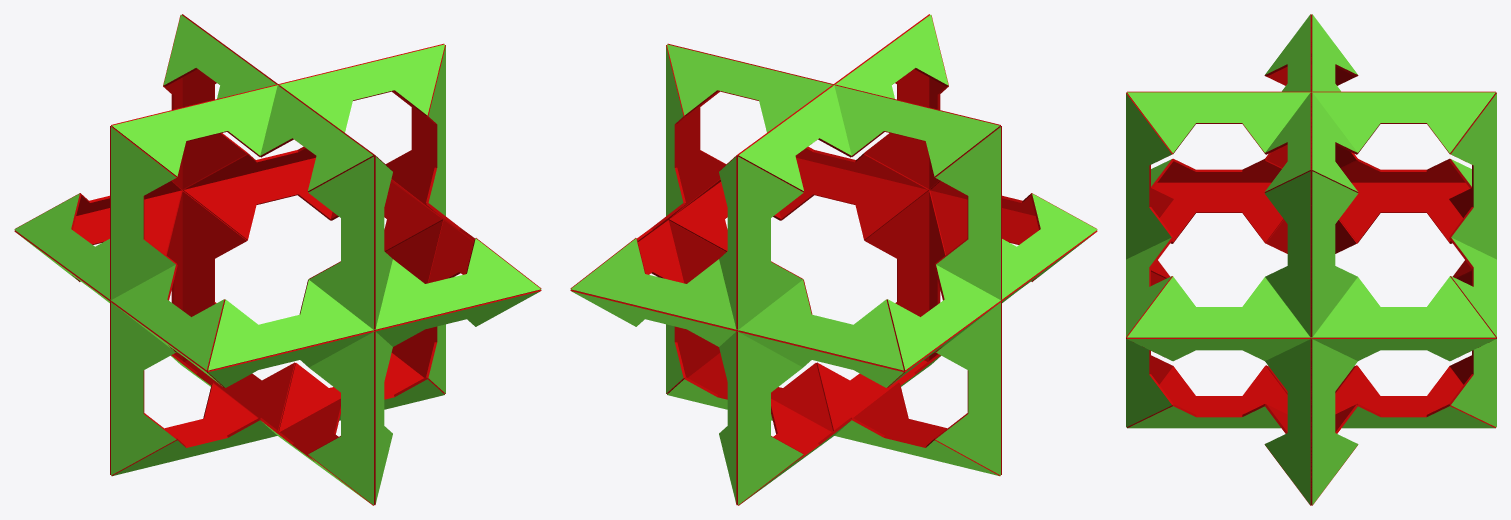
File: EscherS1.glb
3 views of the same model, side by side, from view 1: azimuth 30°, elevation 25°; view 2: azimuth 150°, elevation 25°; view 3: azimuth 270°, elevation 25° (orthographic). The views are drawn at different scales.
Parts seen in each view (by area): view 1: root; view 2: root; view 3: root.
Part boxes in pixels (<box>): root: <box>14,14,541,505</box>; root: <box>570,14,1097,505</box>; root: <box>1126,14,1496,505</box>.
Bounding box in the file's own units: 7.42 × 7.42 × 7.42.
